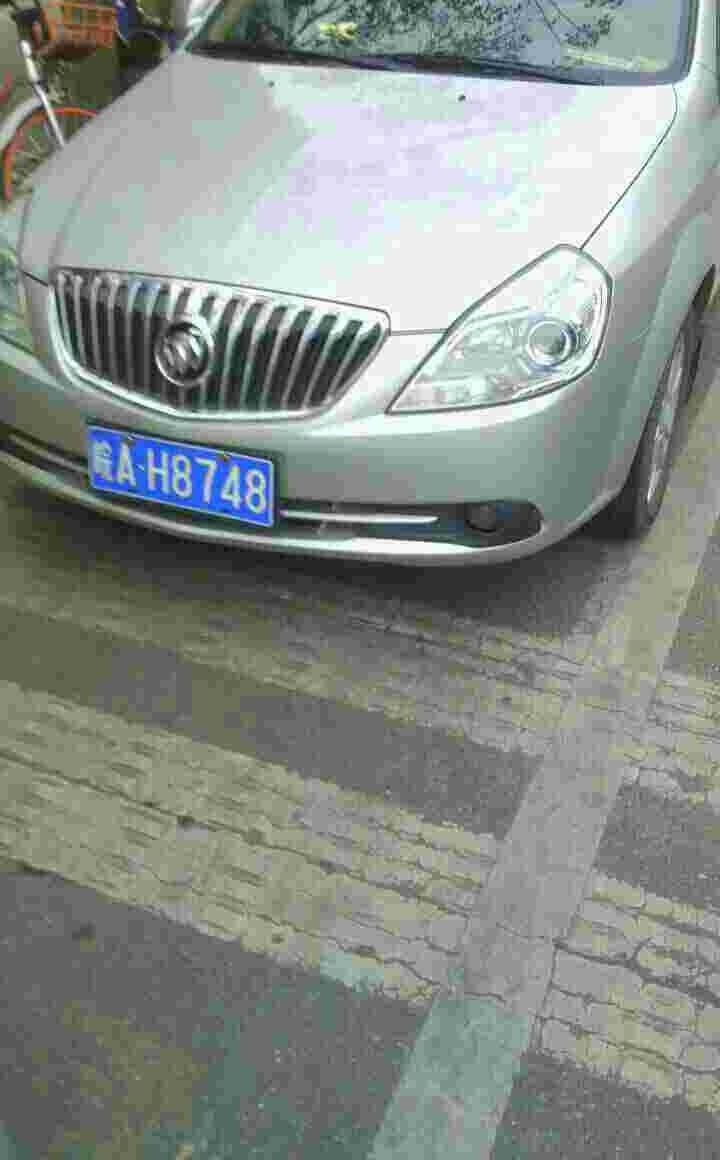plate: (87, 421, 276, 531)
